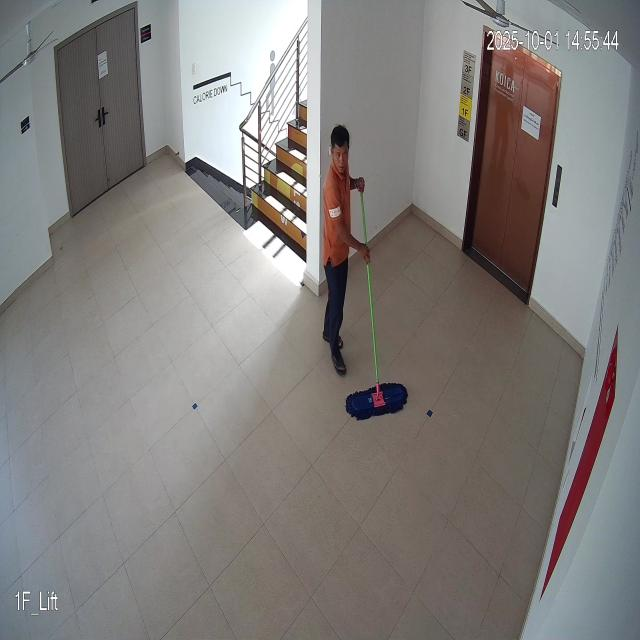face: (324, 122, 355, 185)
